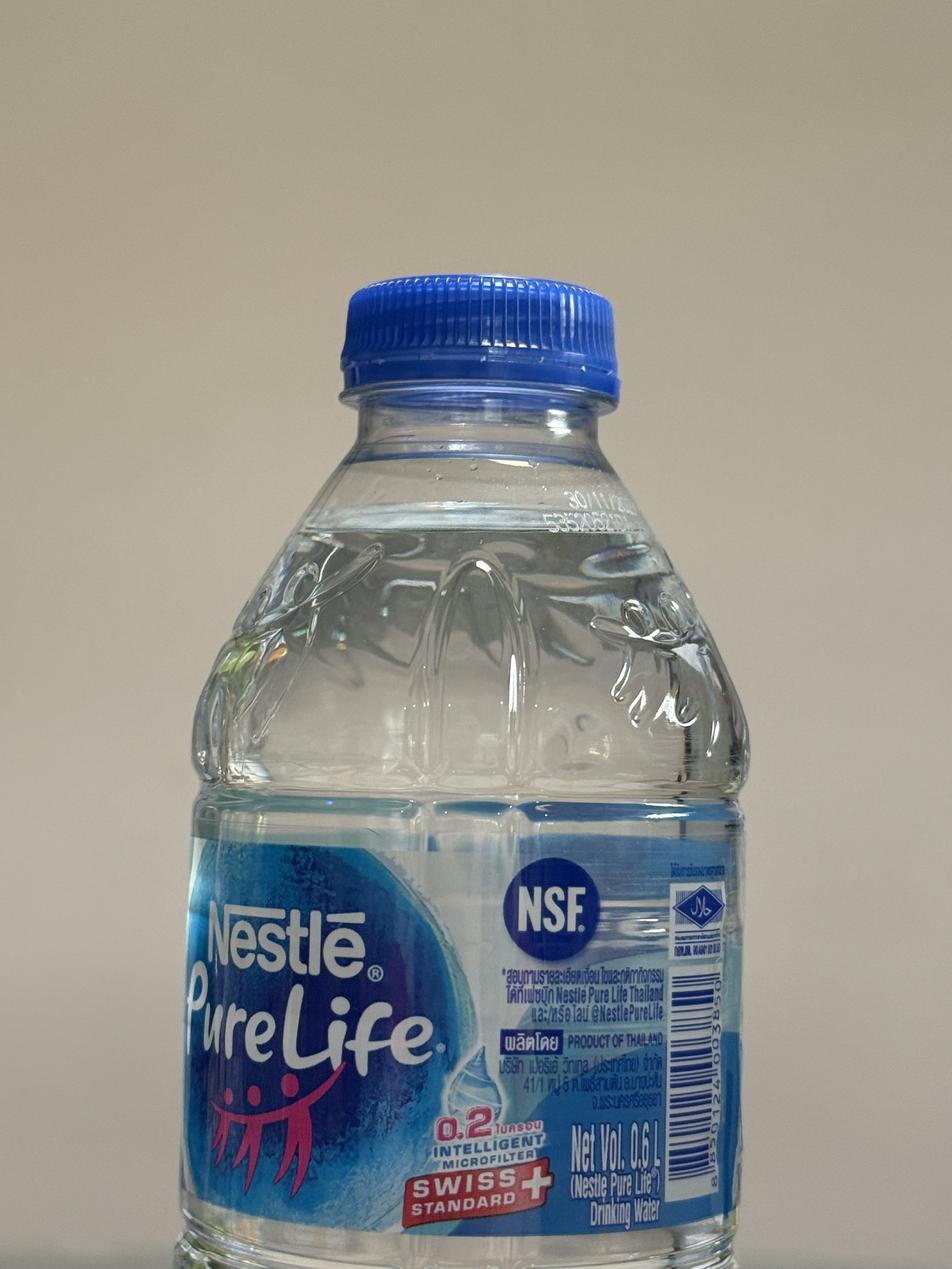closed_cap: (335, 269, 623, 409)
